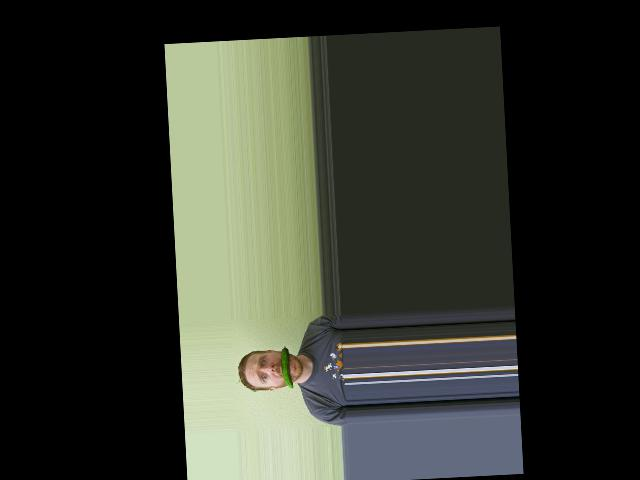cucumber: (280, 345, 293, 389)
